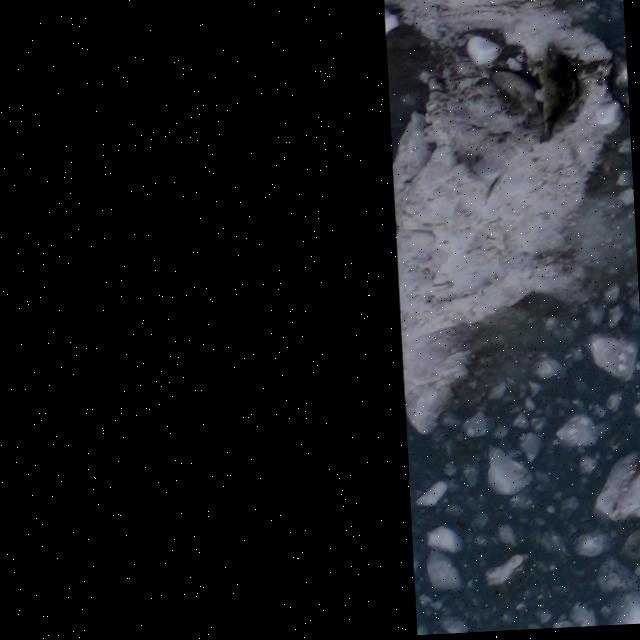seal: (532, 35, 580, 147), (487, 62, 549, 135)
